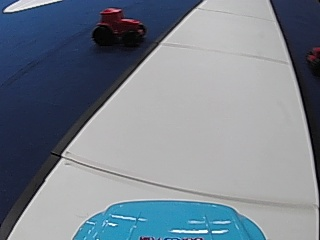tractor: (91, 6, 147, 47)
